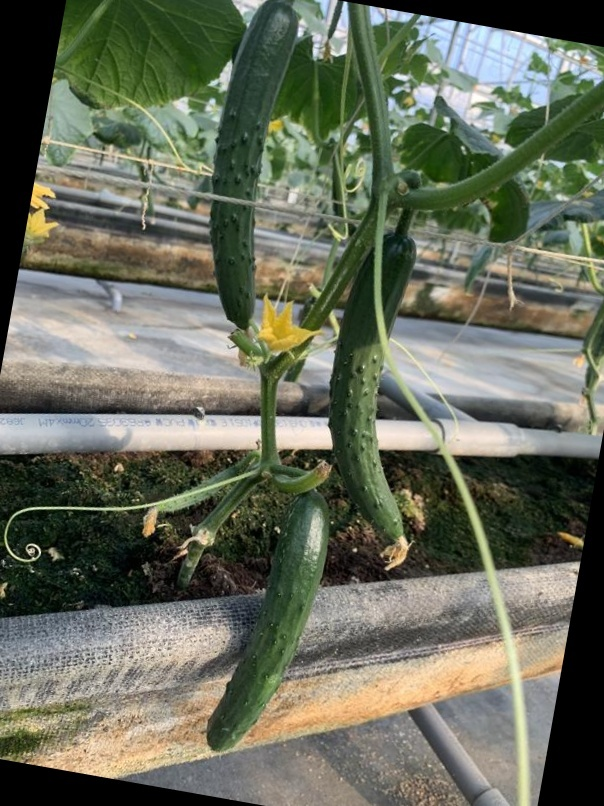mature: (204, 0, 303, 339), (205, 493, 333, 753), (325, 230, 422, 551)
